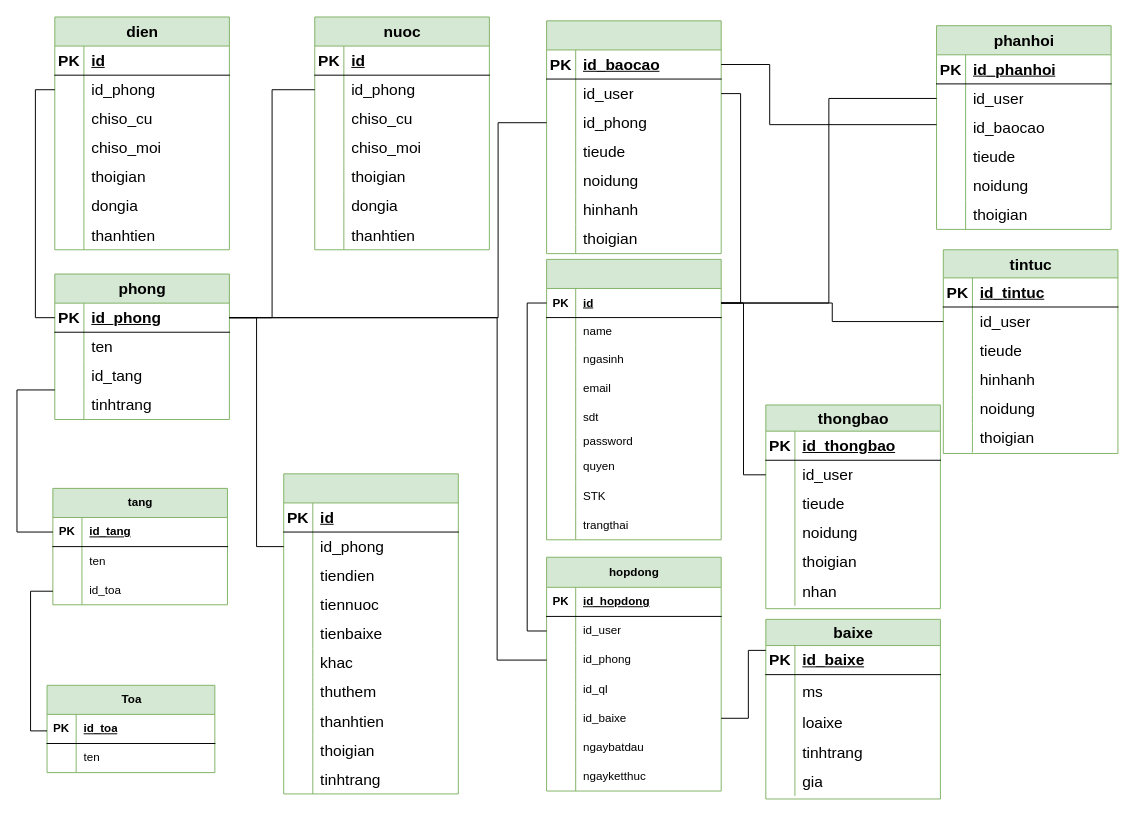
Image size: 1135x817. Some labels were removed from this diagram. The box of each missing label's shape, as (x1, y1, x2, y2) in pixels:
baocaosuco: (546, 20, 721, 254)
hoadon: (283, 473, 458, 794)
users: (546, 258, 721, 540)
